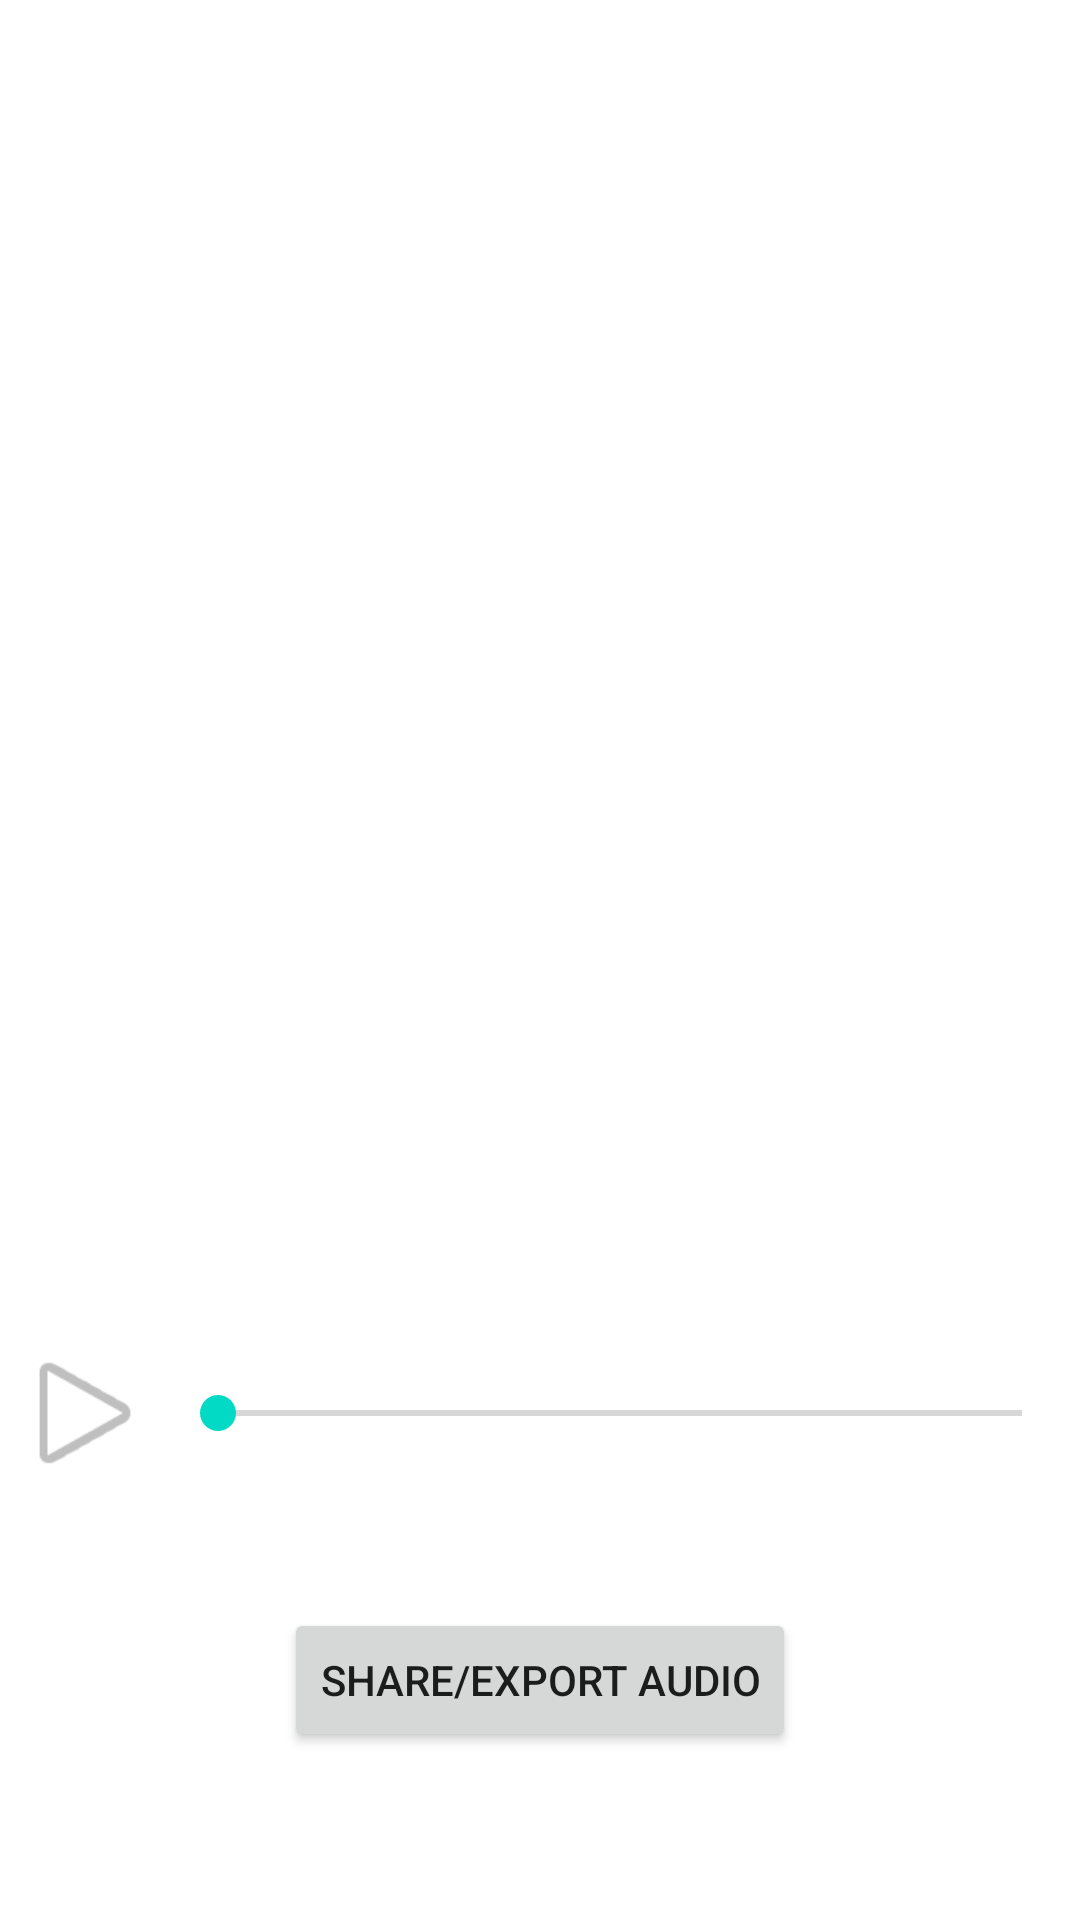

Icon click points for this 1080w x 1920h phone screenshot, format (x,y):
play: (85,1413)
